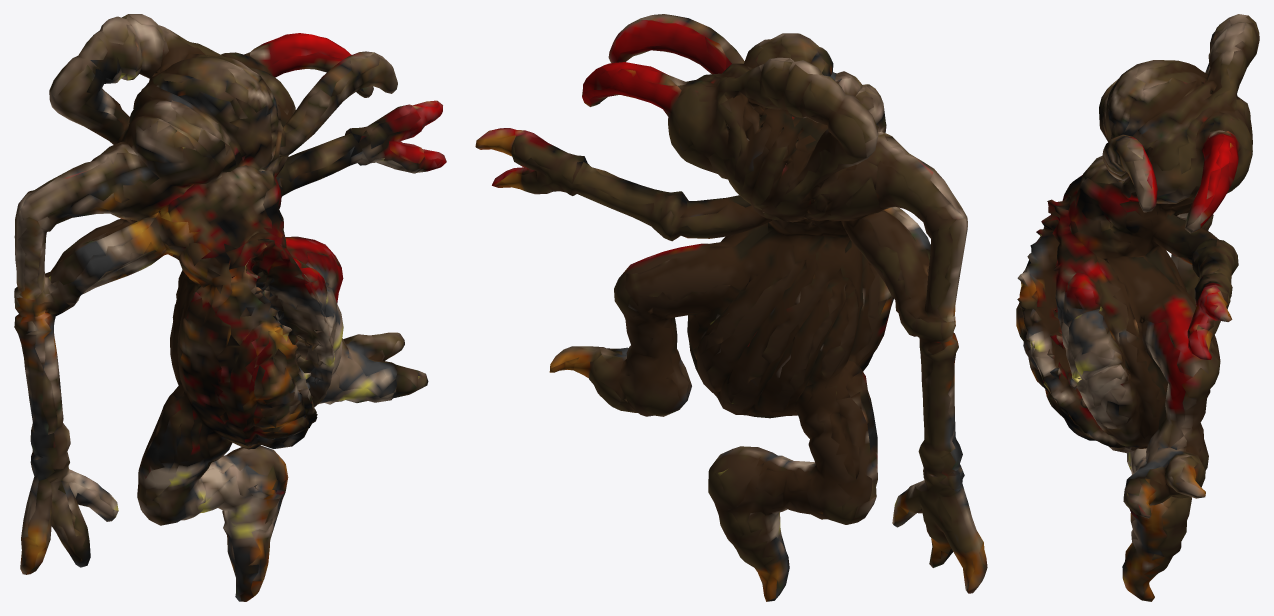
Rendered from TROOK0.obj.
3 views of the same model, side by side, from view 1: azimuth 30°, elevation 25°; view 2: azimuth 150°, elevation 25°; view 3: azimuth 270°, elevation 25° (orthographic). The views are drawn at different scales.
Bounding box in the file's own units: 0.8256 × 0.9896 × 0.398.
1 material, 1 textured.
